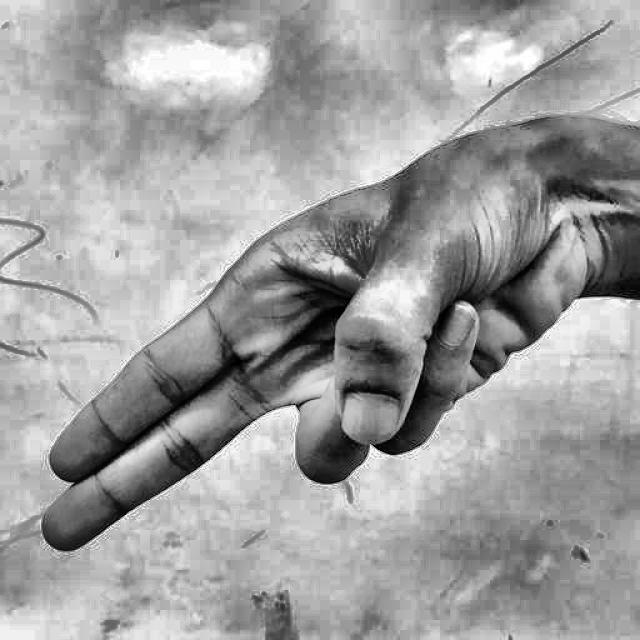Ha: (31, 54, 594, 606)
